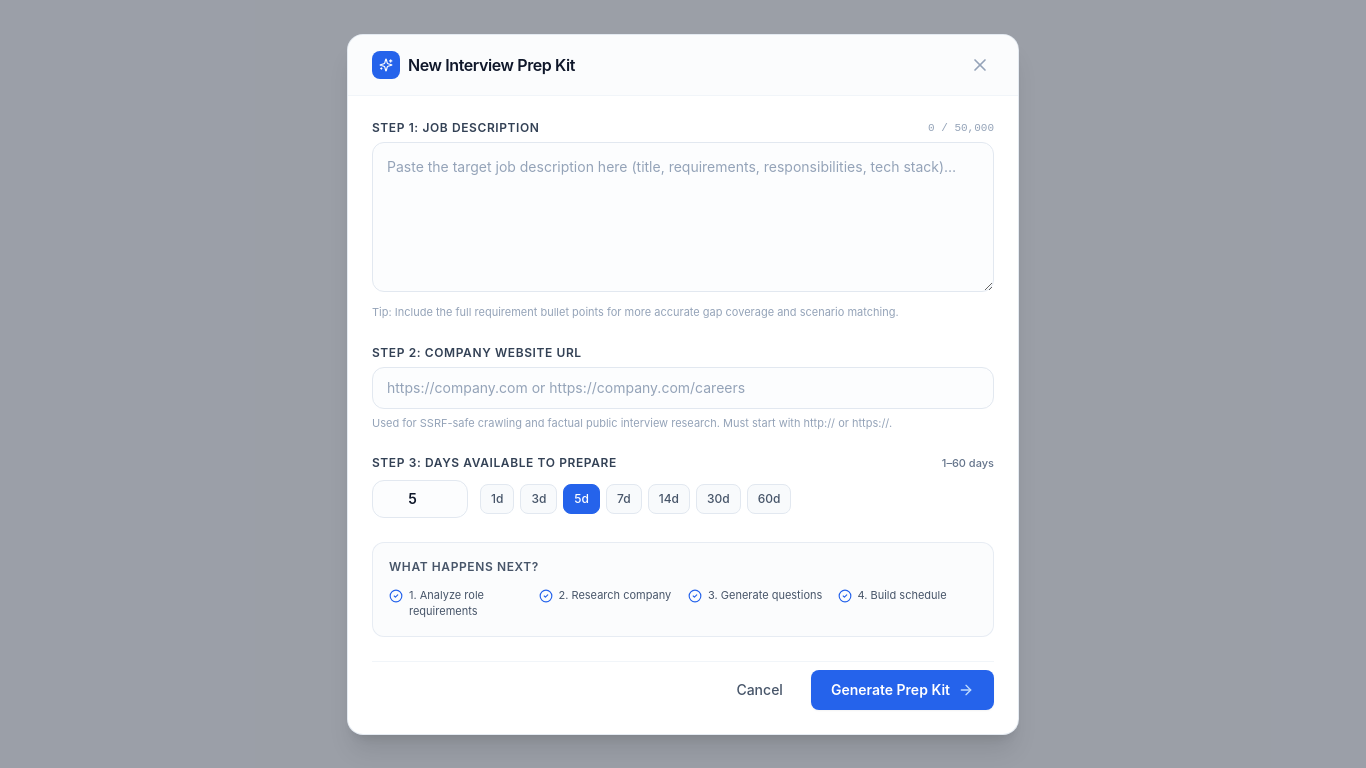
Test: Frontend: Kit Creation › 11. preset day buttons update the days field
Click the button "60d".
click(769, 498)  # box [747,484,791,514]
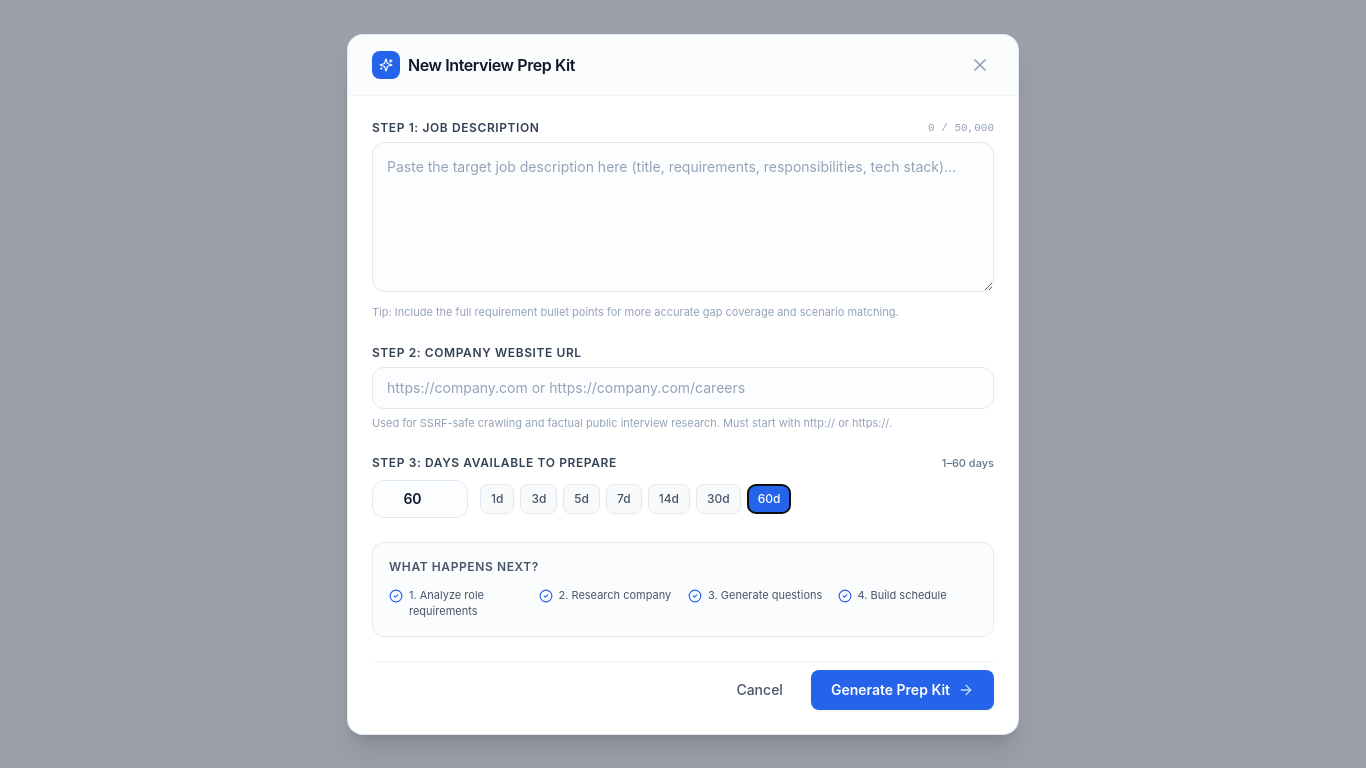
expect the number field labelled "Step 3: Days Available to Prepare" holds "60": met, box [372,480,468,518]
